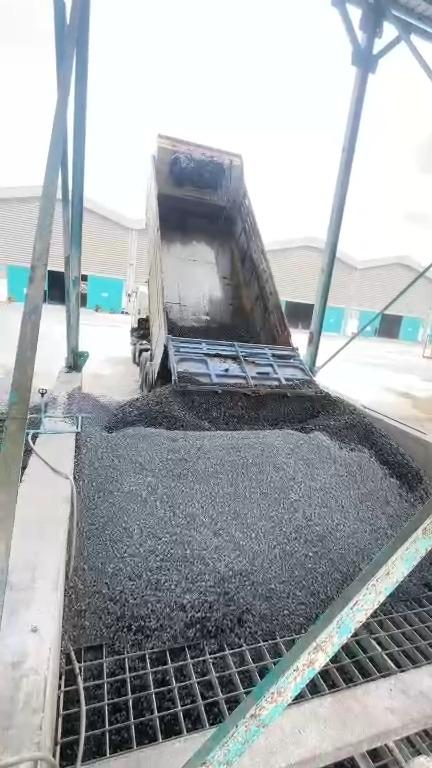gravel: (62, 355, 431, 651), (168, 248, 262, 342), (391, 552, 431, 603), (20, 432, 34, 485), (0, 402, 8, 451), (45, 391, 60, 414), (27, 417, 41, 430), (29, 401, 42, 415), (31, 432, 40, 445)
sand: (385, 388, 431, 435)
